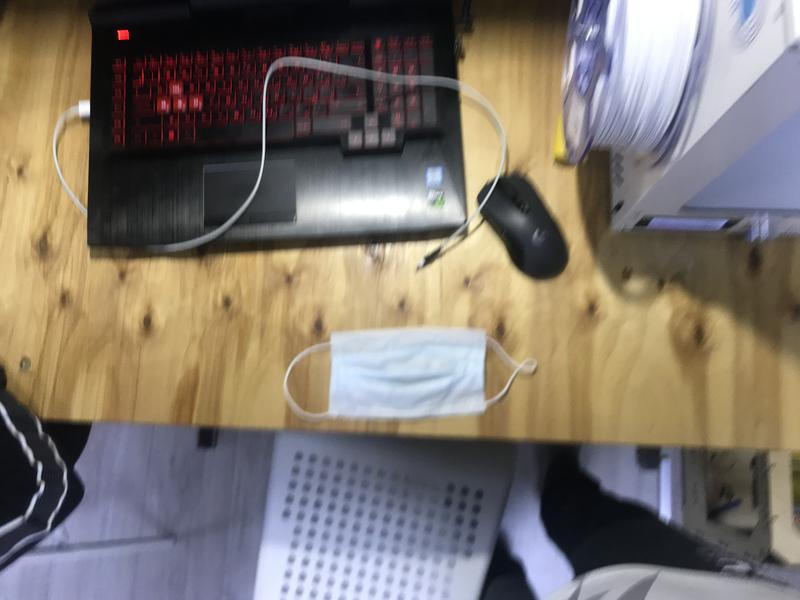medical_mask: (283, 330, 537, 419)
